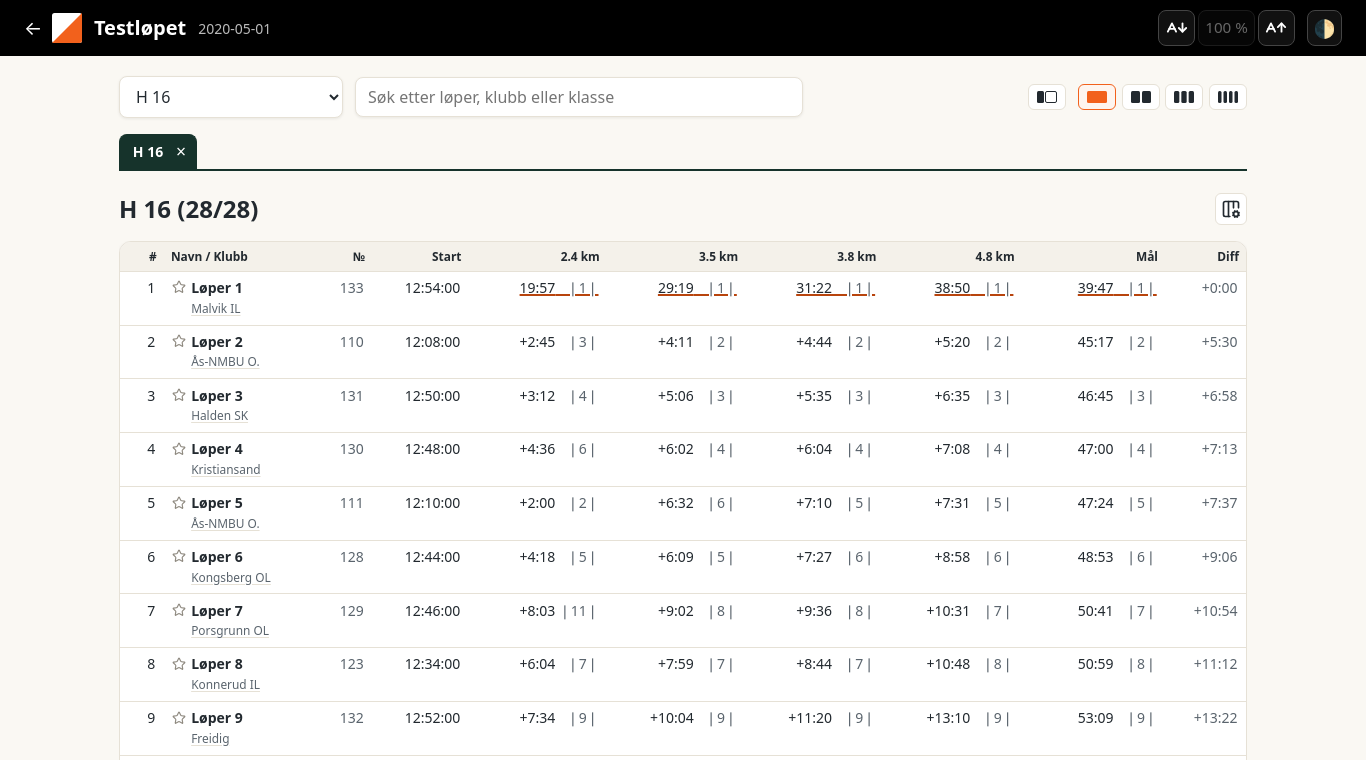
Test case: App › marks favourites with a star and shows them on their own page
Click the button named "Legg til i favoritter: ": click(179, 287) x1=167 y1=275 x2=191 y2=299
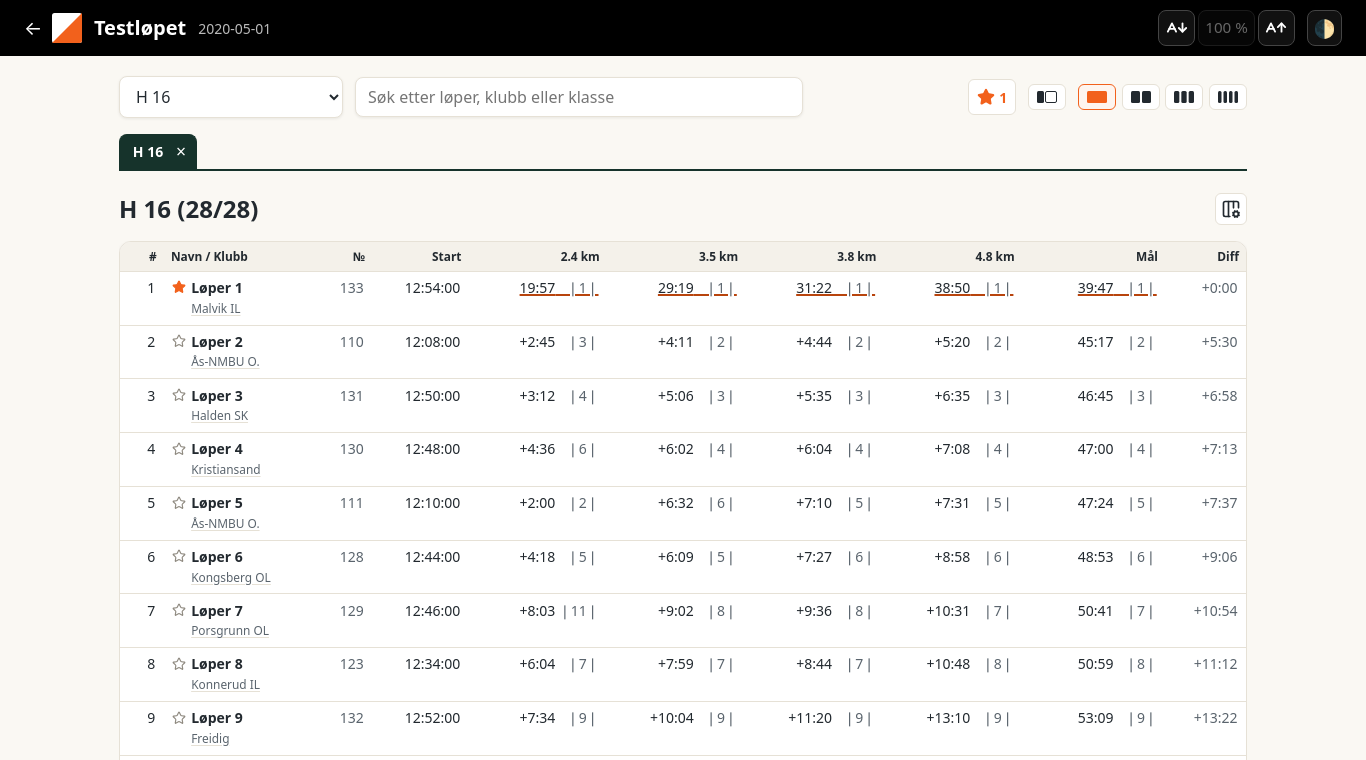
Click the link named "Favoritter (1)": click(992, 97) x1=968 y1=79 x2=1016 y2=115
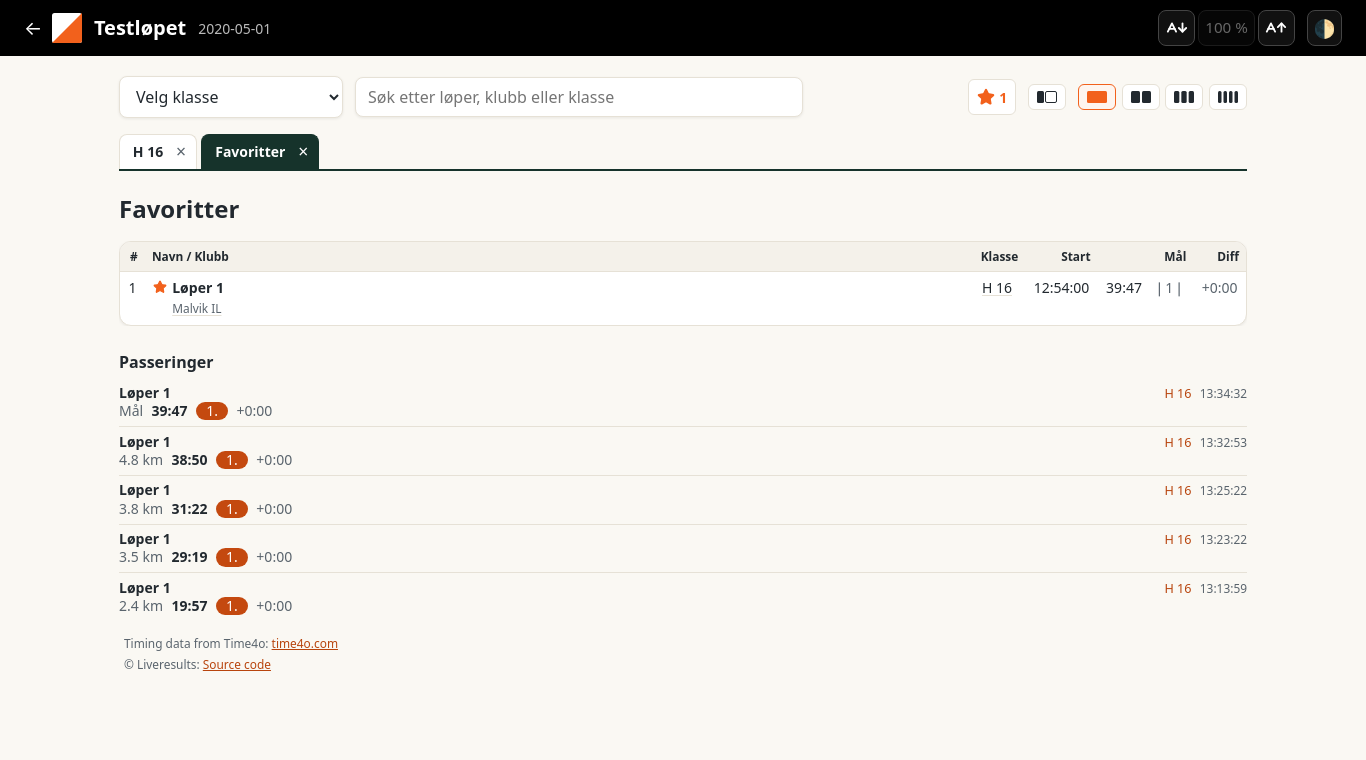
Expected: the heading "Favoritter" is shown, x1=119 y1=192 x2=239 y2=225
Expected: the number of rows is 2, x1=120 y1=242 x2=1246 y2=272; x1=120 y1=272 x2=1246 y2=324
Expected: the link "H 16" next to "12:54:00" is shown, x1=982 y1=278 x2=1012 y2=297
Click the button named "Fjern fra favoritter: Løper 1": click(160, 287) x1=148 y1=275 x2=172 y2=299
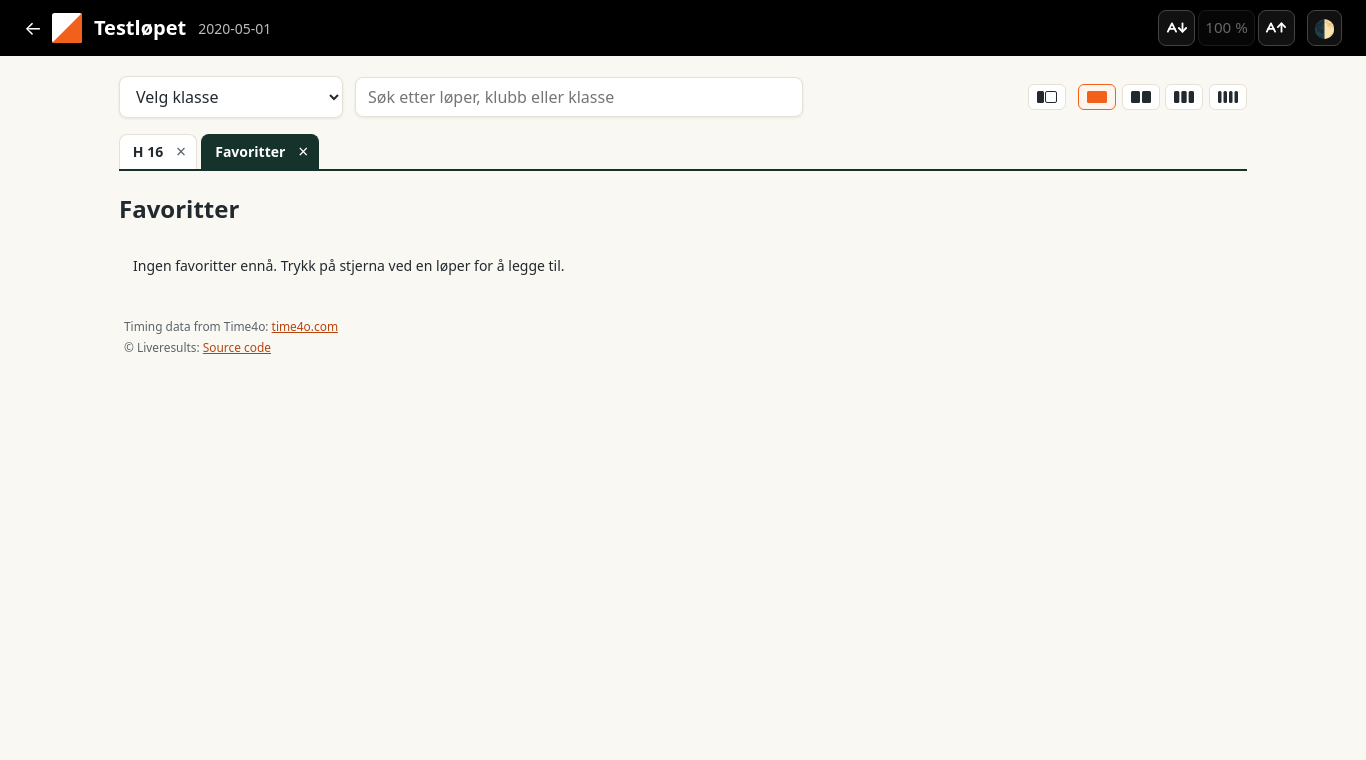
Expected: the text "Ingen favoritter ennå" is shown, x1=133 y1=256 x2=565 y2=275
